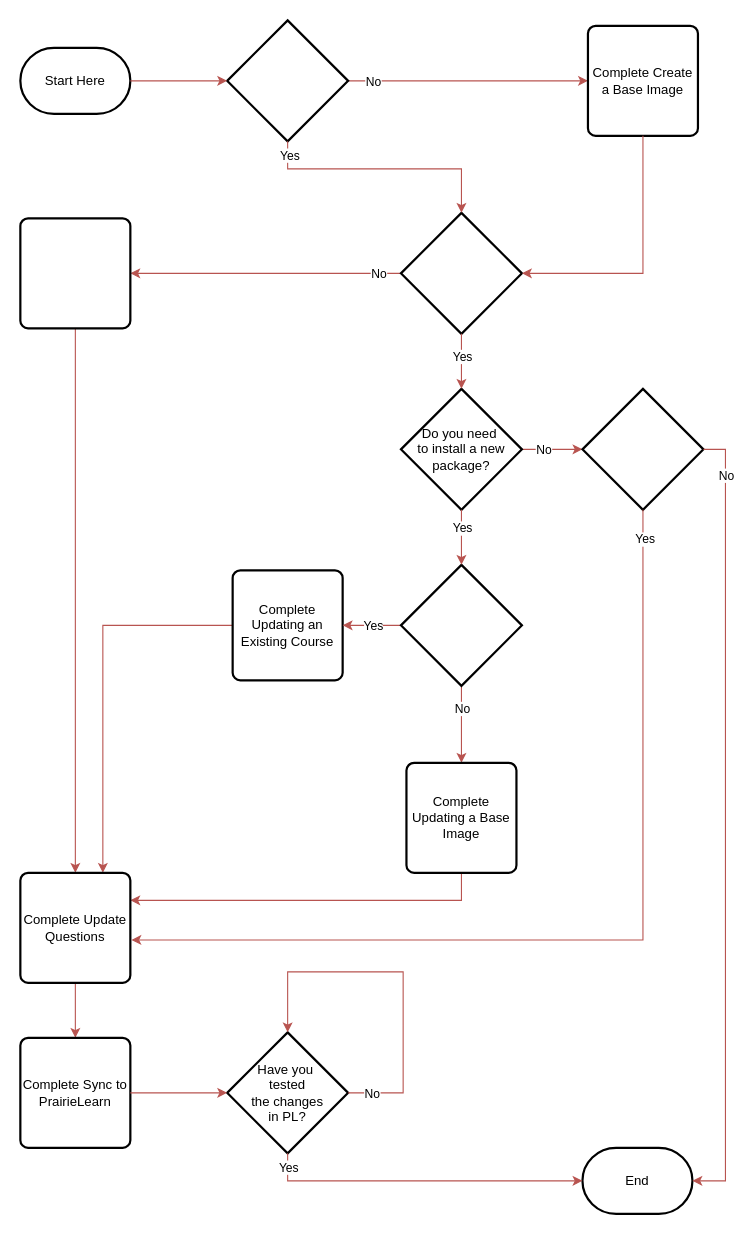
Some shapes in this 754 by 1233 pixel diagram are drawn without their labels. The shapes that lost their labels are listed below. From the top down, each one's centre as x and y in pixels, then its label:
At (287,80): "Does a base image exist for your course?".
At (75,273): "Complete Create a New Course".
At (460,272): "Does a course image exist for your course?".
At (642,448): "Do you need to update any questions?".
At (460,624): "Is this package course specific?".
